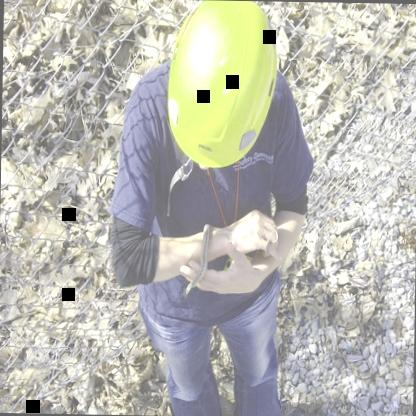helmet: (155, 0, 284, 168)
